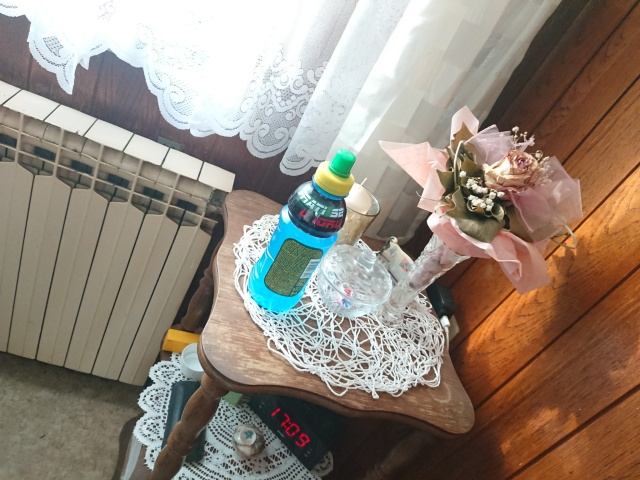Vindi Iso Sport Forest Strawberries 500mL: (246, 147, 357, 316)
